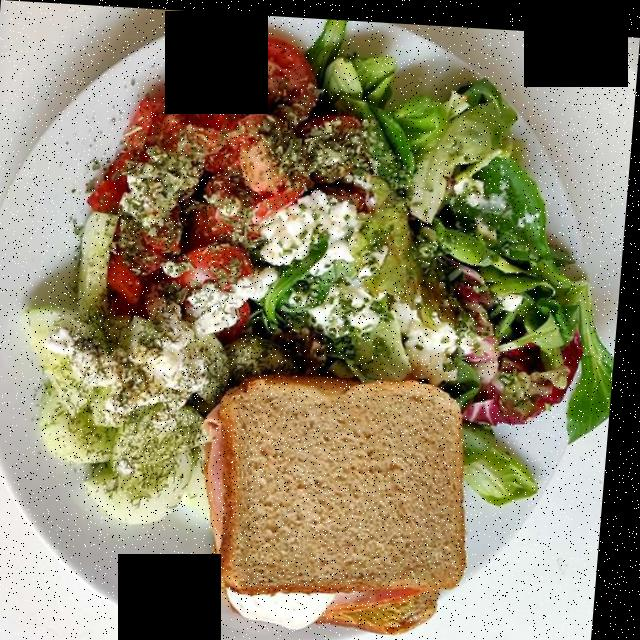bouquet-garni: (119, 119, 403, 363)
bread-wholemeal-toast: (221, 377, 472, 617)
cottage-cheese: (142, 205, 395, 410)
cucumber: (28, 199, 229, 531)
mixed-salad-chopped-without-sauce: (333, 22, 612, 499)
tomato-raw: (90, 39, 377, 321)
